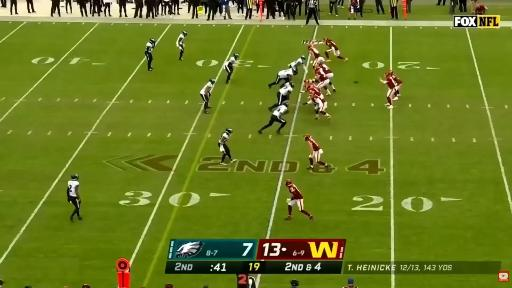Helmet: (282, 100, 289, 107), (285, 179, 292, 186), (292, 67, 298, 75), (71, 174, 78, 180), (289, 81, 295, 88), (303, 79, 311, 84), (304, 134, 310, 140), (385, 71, 391, 77), (226, 128, 233, 133), (150, 39, 156, 44), (308, 44, 313, 50), (210, 79, 215, 84), (234, 54, 239, 59), (183, 31, 187, 36), (389, 70, 393, 74), (301, 56, 305, 60), (324, 38, 328, 41)
Jersey: (288, 184, 303, 199), (68, 180, 79, 197), (200, 81, 213, 95), (273, 105, 287, 118), (384, 75, 396, 89), (308, 138, 320, 151), (279, 83, 292, 95), (316, 69, 328, 82), (219, 132, 230, 145), (278, 69, 293, 78), (326, 39, 338, 50), (308, 86, 321, 96), (320, 64, 332, 74), (290, 58, 303, 67), (312, 96, 326, 104), (392, 74, 402, 85), (145, 42, 154, 54), (176, 34, 185, 46), (225, 57, 235, 66), (311, 48, 319, 58)
Player: (285, 179, 313, 220), (258, 101, 288, 134), (304, 134, 329, 170), (269, 81, 294, 111), (67, 174, 82, 221), (303, 80, 323, 115), (218, 128, 236, 165), (268, 68, 297, 88), (380, 72, 396, 108), (324, 38, 347, 61), (310, 94, 331, 119), (200, 79, 215, 113), (224, 54, 239, 83), (319, 64, 335, 91), (315, 67, 330, 94), (390, 70, 402, 100), (308, 45, 325, 66), (145, 39, 156, 70), (176, 31, 187, 60), (289, 56, 305, 69)
